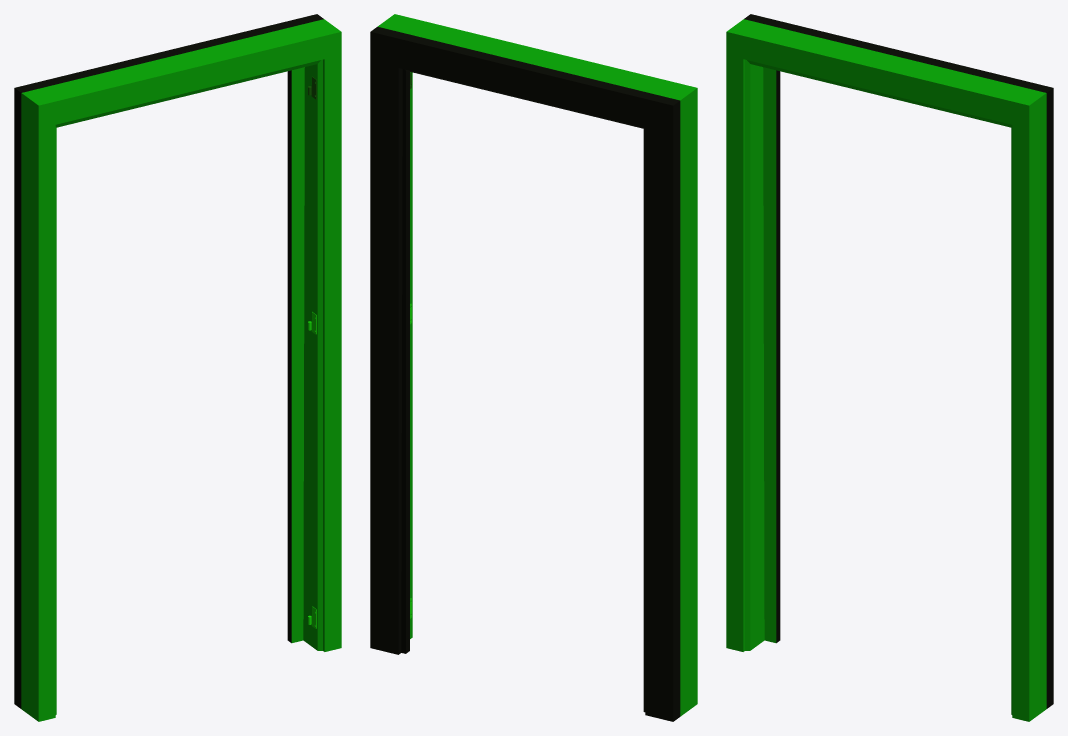
Rendered from doorframe_single.fbx.
3 views of the same model, side by side, from view 1: azimuth 30°, elevation 25°; view 2: azimuth 150°, elevation 25°; view 3: azimuth 330°, elevation 25° (orthographic).
Parts seen in each view (by area): view 1: door_singlenew; view 2: door_singlenew; view 3: door_singlenew.
Part boxes in pixels (x1,y1,x2,y2): door_singlenew: (14,14,341,721); door_singlenew: (370,14,697,721); door_singlenew: (726,14,1053,721).
Size of the model in its own units: 108 by 210 by 15.
